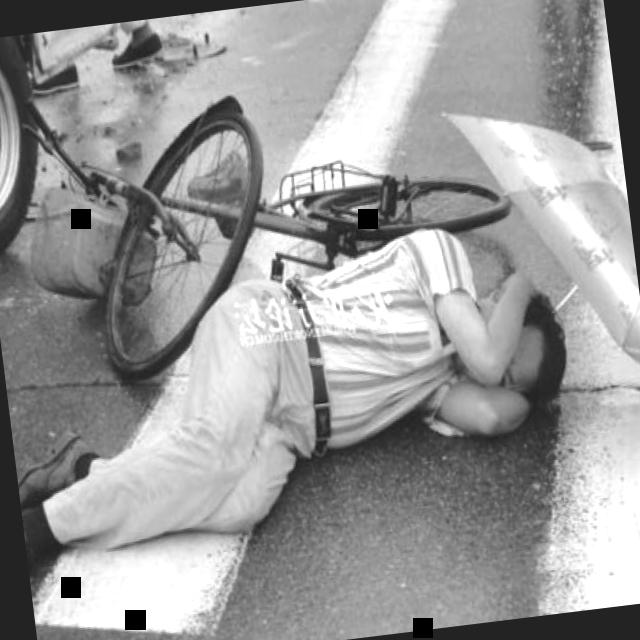Fall-Detected: (0, 191, 616, 594)
